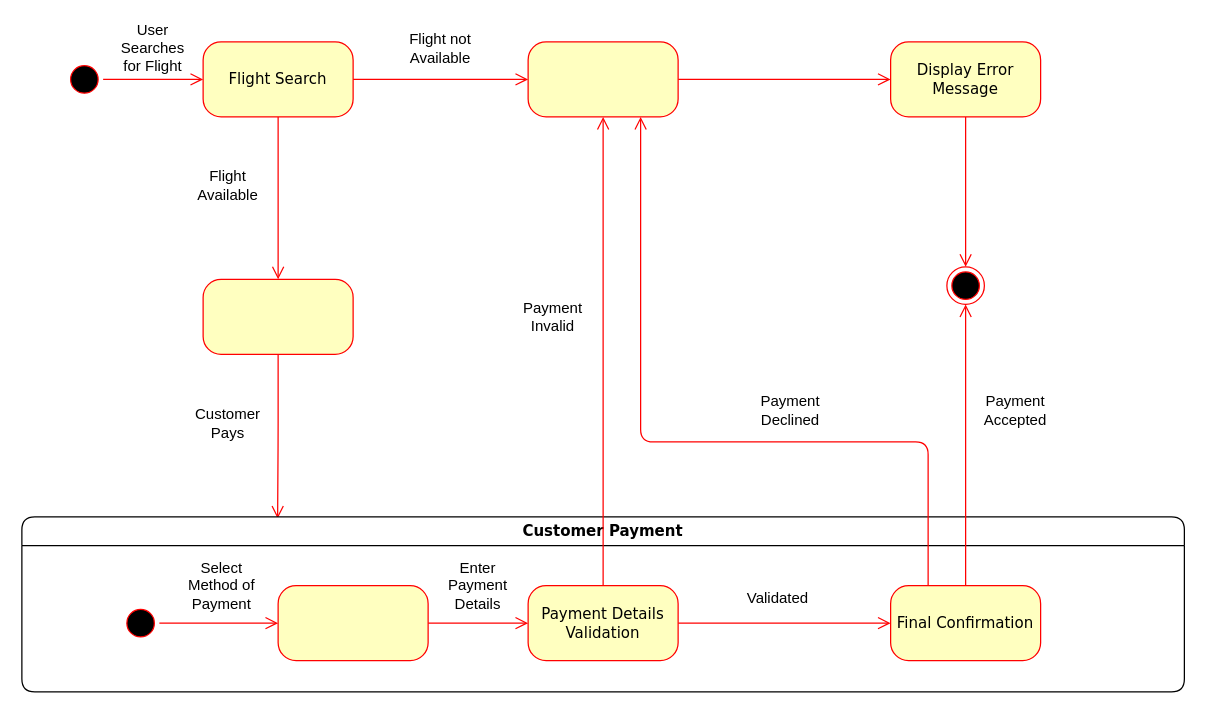
Some shapes in this 1206 by 714 pixel diagram are drawn without their labels. Each missing label, with the centre of its shape:
"Accepted" goes at pixel 277 316.
"Rejected" goes at pixel 602 79.
"Webpage for Selected Payment Method" goes at pixel 352 622.
